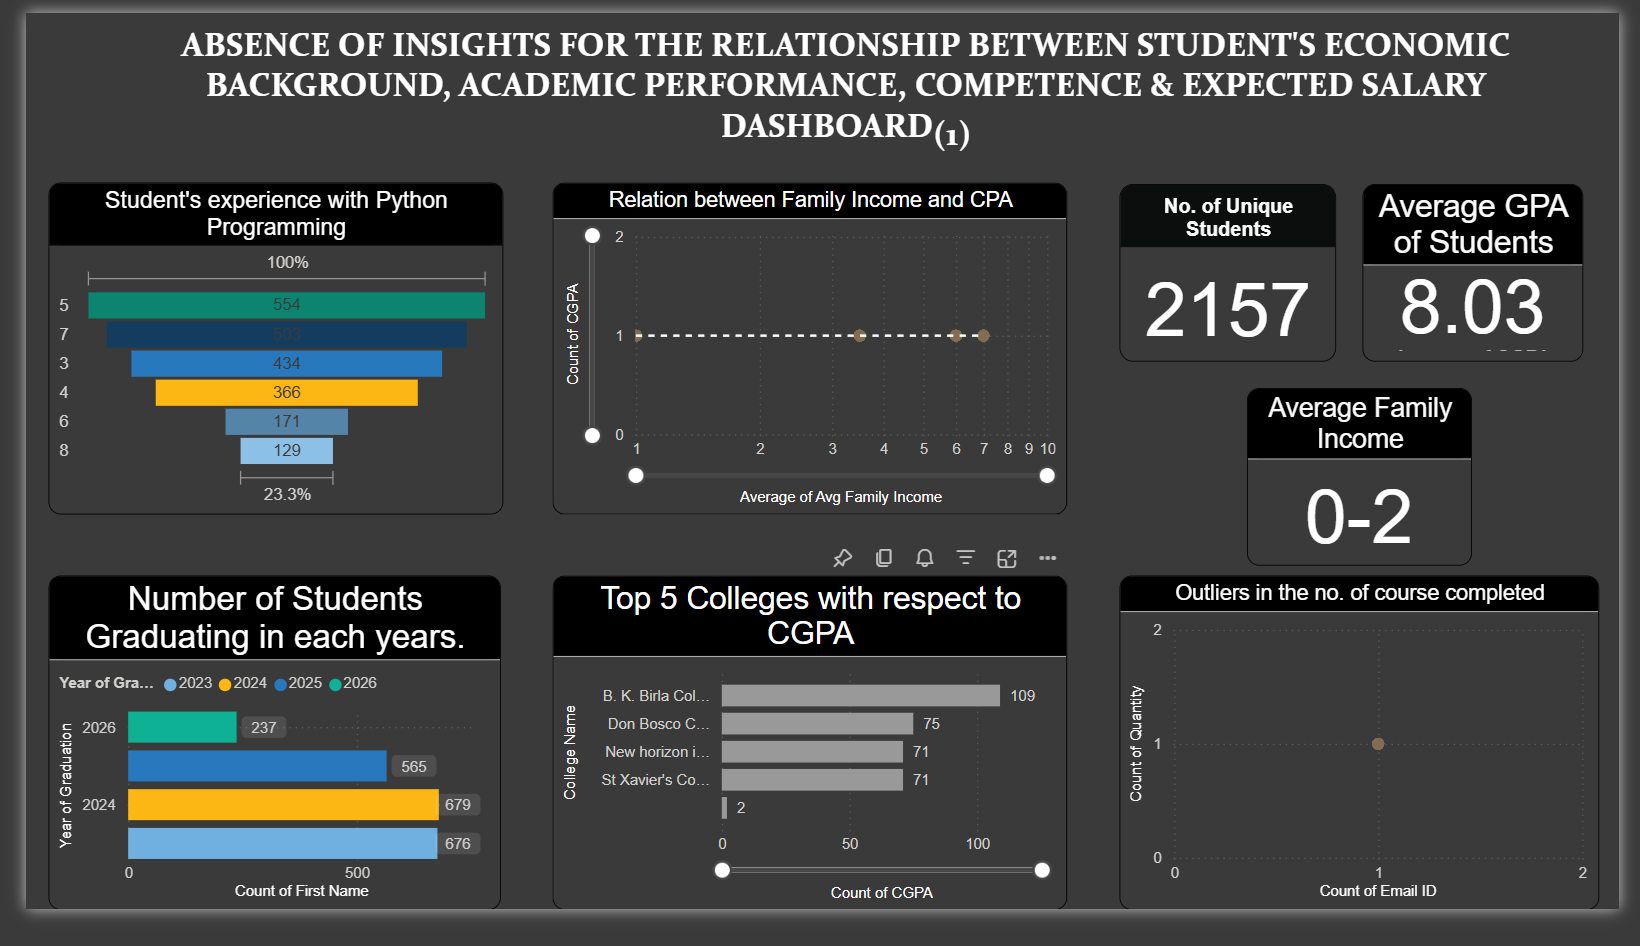

The dashboard page shown, as its layout file describes it:
{"tool":"powerbi","page":{"name":"Page 1","canvas":[1280,720],"ordinal":0},"visuals":[{"type":"card","title":"No. of Unique Students","fields":{"Values":["Cleaned_All Events Data.First Name"]},"box":[877.9,137.5,173.9,142.5],"z":0},{"type":"card","title":"Average GPA of Students","fields":{"Values":["Cleaned_All Events Data.CGPA"]},"box":[1073.4,137.5,177.2,142.5],"z":1000},{"type":"card","title":"Average Family Income","fields":{"Values":["Cleaned_All Events Data.Family Income"]},"box":[980.6,301.5,180.6,142.5],"z":2000},{"type":"barChart","title":"Number of Students Graduating in each years. ","fields":{"Category":["Cleaned_All Events Data.Year of Graduation"],"Y":["Cleaned_All Events Data.First Name"],"Series":["Cleaned_All Events Data.Year of Graduation"]},"box":[18.3,451.7,363.3,268.3],"z":3000},{"type":"funnel","title":"Student''s experience with Python Programming","fields":{"Y":["Cleaned_All Events Data.Email ID"],"Category":["Cleaned_All Events Data.Experience with python (Months)"]},"box":[18.3,136.7,365,266.7],"z":4000},{"type":"clusteredBarChart","title":"Top 5 Colleges with respect to CGPA","fields":{"Category":["Cleaned_All Events Data.College Name"],"Y":["Cleaned_All Events Data.CGPA"]},"box":[423.3,451.7,413.3,268.3],"z":5000},{"type":"scatterChart","title":"Relation between Family Income and CPA","fields":{"Category":["Cleaned_All Events Data.Email ID"],"Y":["Cleaned_All Events Data.CGPA"],"X":["Cleaned_All Events Data.Avg Family Income"]},"box":[423.3,136.7,413.3,266.7],"z":6000},{"type":"scatterChart","title":"Outliers in the no. of course completed","fields":{"Y":["Cleaned_All Events Data.Quantity"],"Category":["Cleaned_All Events Data.Email ID"],"X":["Cleaned_All Events Data.Email ID"]},"box":[878.3,451.7,385,268.3],"z":7000},{"type":"textbox","box":[101,3.3,1127.4,115.7],"z":8000}]}

Visuals, with their boxes in screenshot pixels (x1, y1, x2, y2), scaled from the page's 1280x720 canvas onto the 1640x946 screenshot:
"No. of Unique Students" card: 1125,181,1348,368
"Average GPA of Students" card: 1375,181,1602,368
"Average Family Income" card: 1256,396,1488,583
"Number of Students Graduating in each years. " barChart: 23,593,489,945
"Student''s experience with Python Programming" funnel: 23,180,491,530
"Top 5 Colleges with respect to CGPA" clusteredBarChart: 542,593,1072,945
"Relation between Family Income and CPA" scatterChart: 542,180,1072,530
"Outliers in the no. of course completed" scatterChart: 1125,593,1619,945
textbox: 129,4,1574,156
